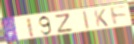9: (38, 16, 53, 36)
F: (109, 5, 129, 27)
I: (25, 17, 36, 38), (82, 10, 91, 31)
K: (93, 8, 110, 28)
Z: (55, 12, 74, 34)
